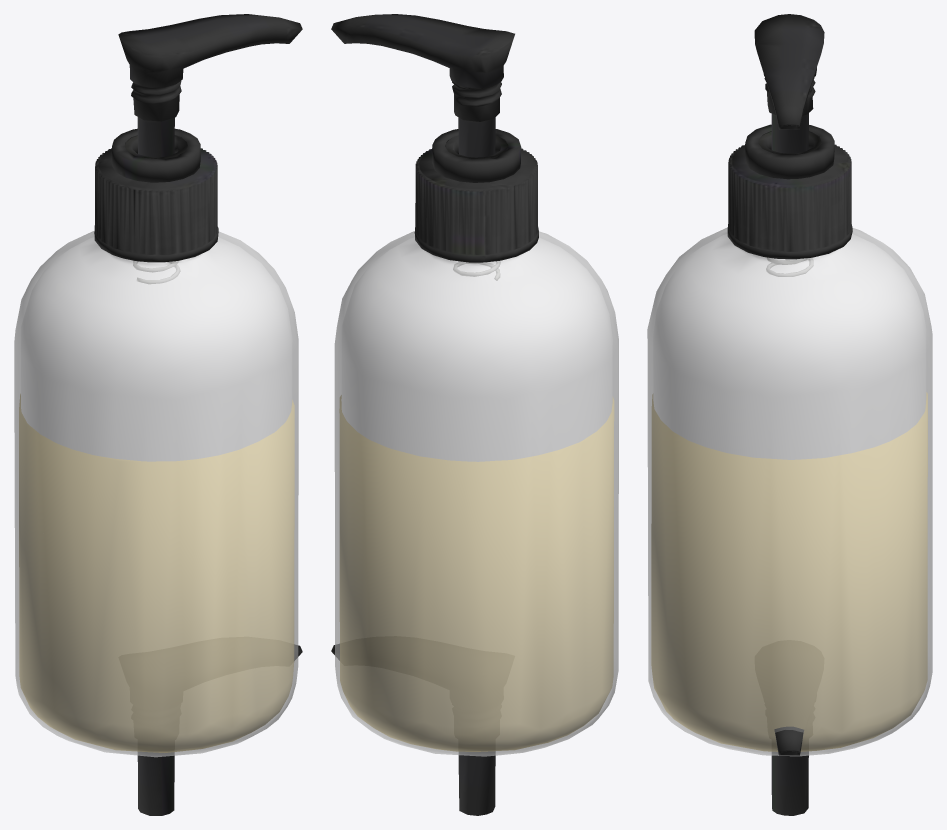
Rendered from cleaning_soapDispenser_a01.glb.
3 renders of one model, left to right at view 1: azimuth 30°, elevation 25°; view 2: azimuth 150°, elevation 25°; view 3: azimuth 270°, elevation 25°, orthographic.
Visible parts, largest first — view 1: bottle_01_mesh_00 (×2), part_01_mesh_00, dispencer_01_mesh_00 (×2); view 2: bottle_01_mesh_00 (×2), part_01_mesh_00, dispencer_01_mesh_00 (×2); view 3: bottle_01_mesh_00 (×2), part_01_mesh_00, dispencer_01_mesh_00 (×2).
Part boxes in pixels (<box>): bottle_01_mesh_00 (×2): <box>14,231,298,756</box>; part_01_mesh_00: <box>94,128,218,283</box>; dispencer_01_mesh_00 (×2): <box>118,14,302,815</box>; bottle_01_mesh_00 (×2): <box>335,231,618,756</box>; part_01_mesh_00: <box>414,129,538,280</box>; dispencer_01_mesh_00 (×2): <box>331,14,514,815</box>; bottle_01_mesh_00 (×2): <box>647,228,932,755</box>; part_01_mesh_00: <box>727,124,852,276</box>; dispencer_01_mesh_00 (×2): <box>754,14,824,815</box>.
Bounding box in the file's own units: 0.0753 × 0.2088 × 0.0693.
Materials: 5 (2 with a texture image).
